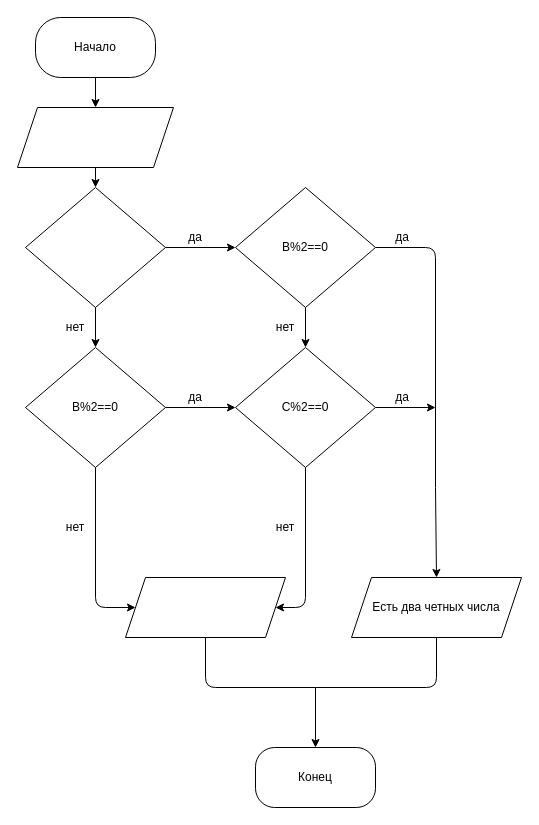
Image size: 539x825. Some labels were removed from this diagram. The shapes that lost their labels are listed below. From the top down, each one's centre as x and y in pixels, then its label:
At (95,137): "Ввод A, B, С".
At (95,247): "A%2==0".
At (205,607): "Двух четных чисел нет".
